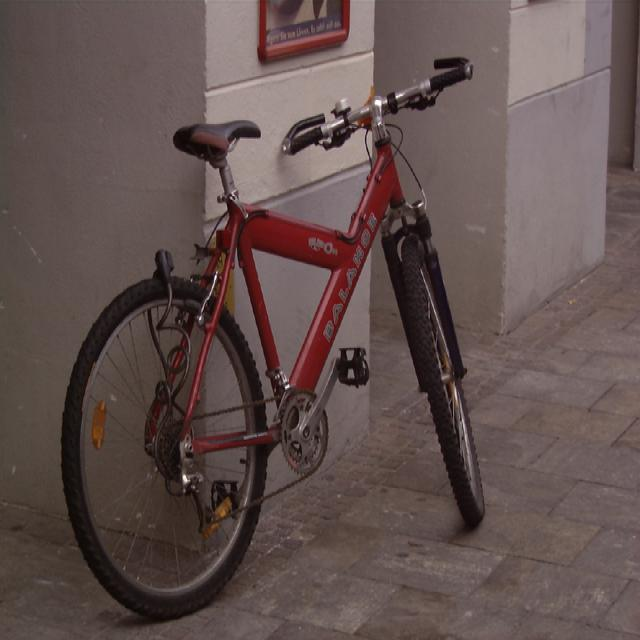bicycle: (59, 55, 486, 620)
